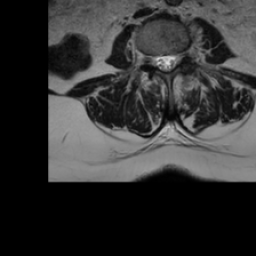CCS_normal: (162, 47, 170, 78)
LFS_normal: (178, 40, 187, 66)
LLS_normal: (170, 47, 178, 72)
RFS_normal: (146, 44, 154, 72)
RLS_normal: (154, 46, 162, 74)
